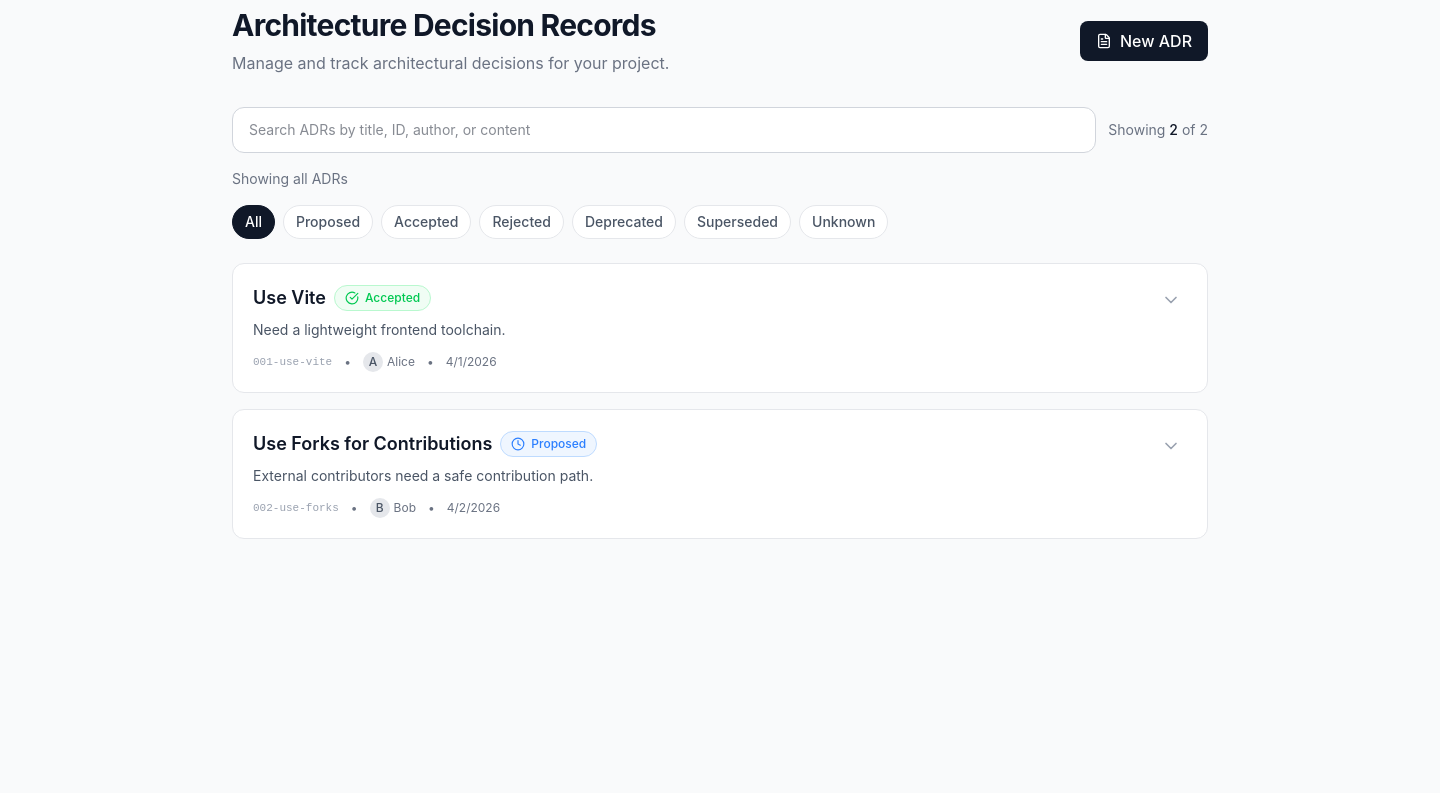
Test case: AdrList › creates a status update merge request from the expanded ADR view
The width and height of the screenshot is (1440, 793).
Click the heading "Use Vite": click(290, 298) [253, 284, 326, 312]
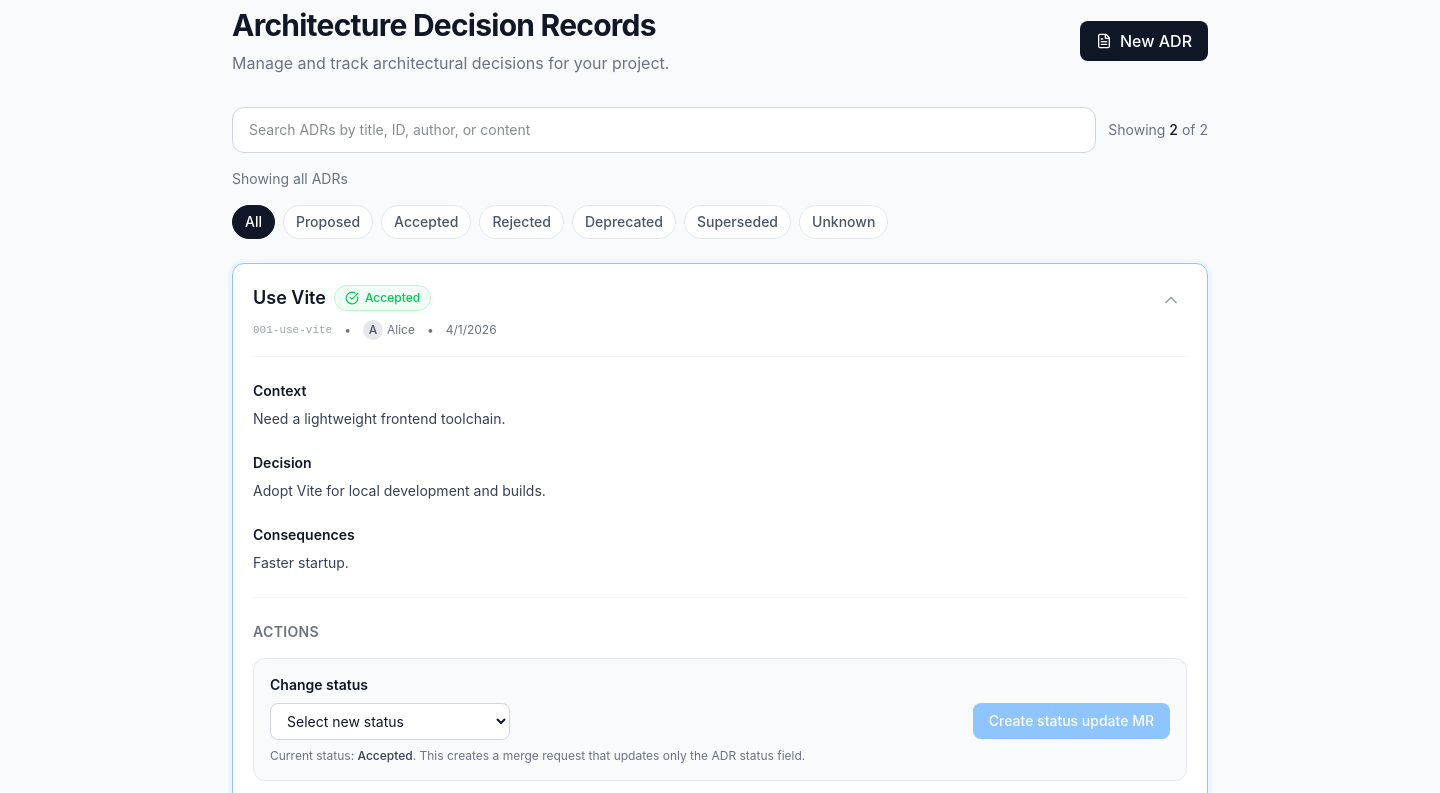
Expected: the dropdown labelled "Change status" shows "Select new status"
Expected: the button "Create status update MR" is disabled, [973, 703, 1170, 739]
Select "Deprecated" in the dropdown labelled "Change status": (390, 722) [270, 703, 510, 740]
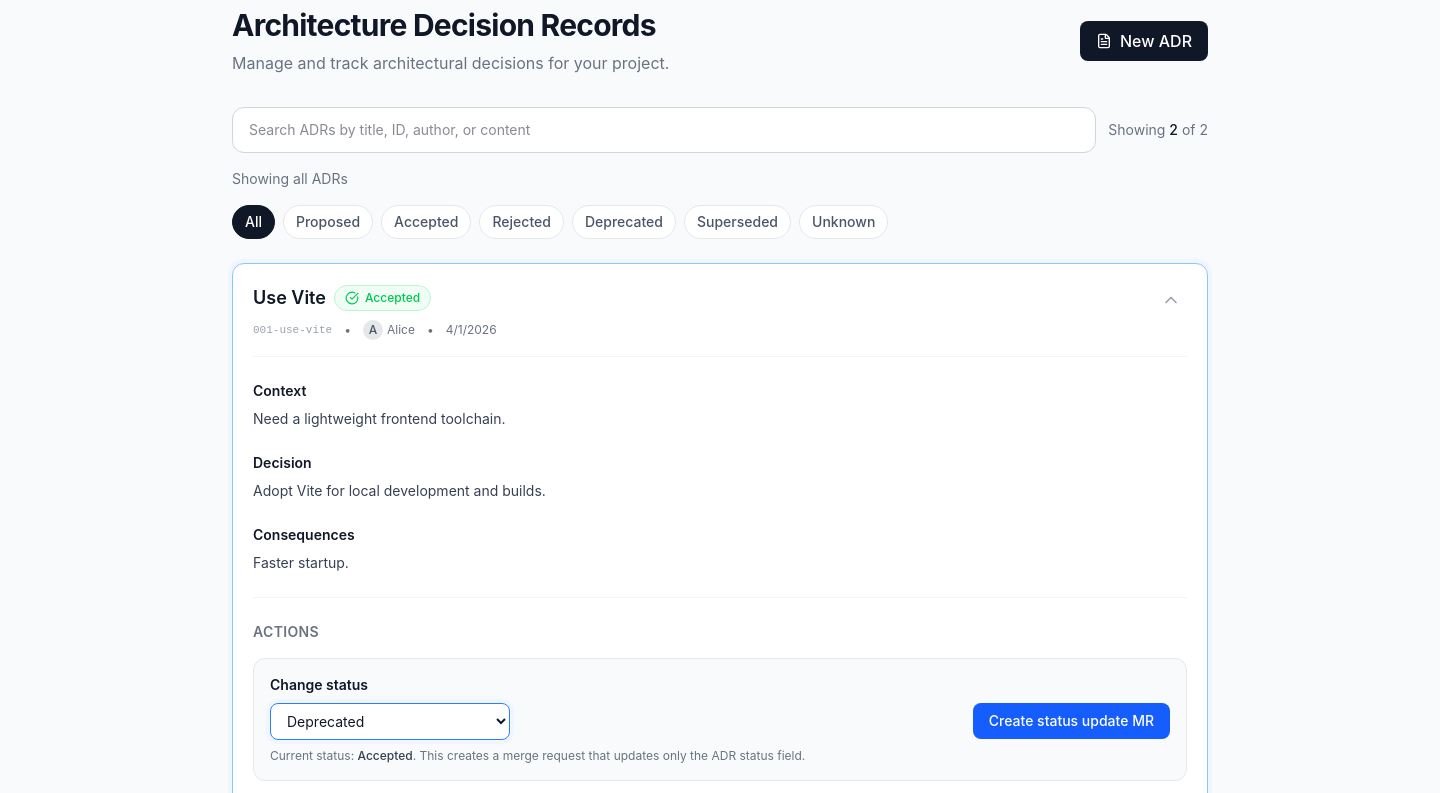
Expected: the button "Create status update MR" is enabled
Click the button "Create status update MR": click(1071, 721) [973, 703, 1170, 739]
(page scrolled)
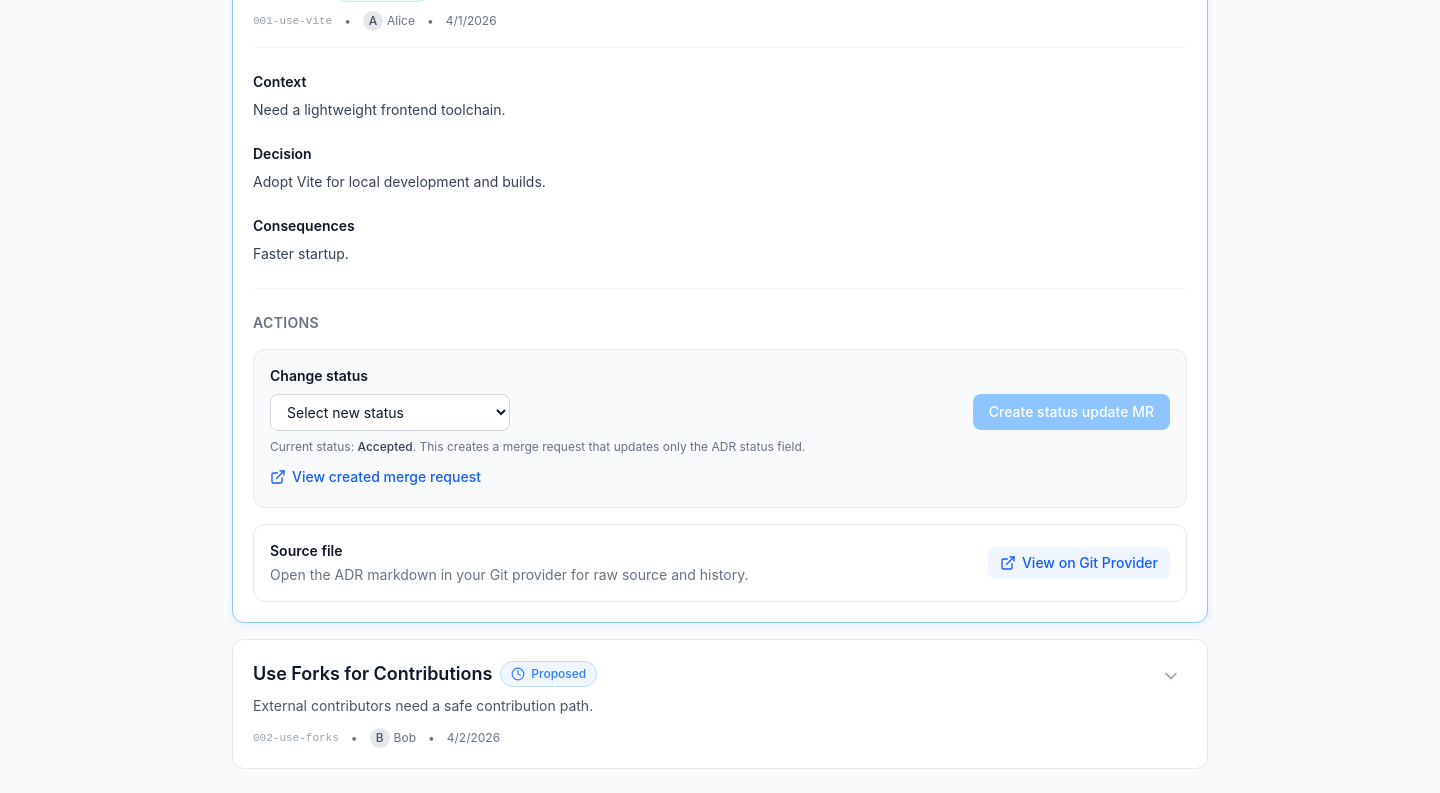
Expected: the link "View created merge request" is shown, [270, 467, 481, 487]
